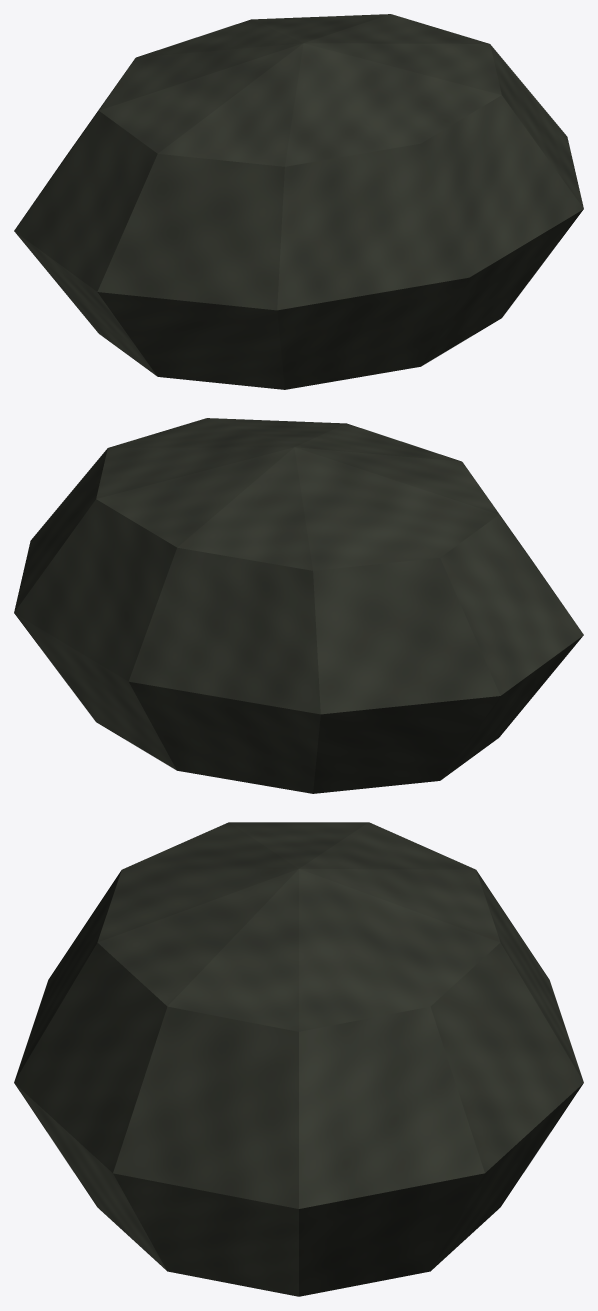
The model's file is nature_rock_02.glb.
3 views of the same model, one above another, from view 1: azimuth 30°, elevation 25°; view 2: azimuth 150°, elevation 25°; view 3: azimuth 270°, elevation 25° (orthographic). The views are drawn at different scales.
Parts seen in each view (by area): view 1: rock.002; view 2: rock.002; view 3: rock.002.
Boxes of the visible parts, box(x1,y1,x2,y2) form: rock.002: box(14, 14, 583, 389); rock.002: box(14, 418, 583, 793); rock.002: box(14, 822, 583, 1296).
Size of the model in its own units: 0.6789 by 0.4 by 0.5515.
1 material, 1 textured.
